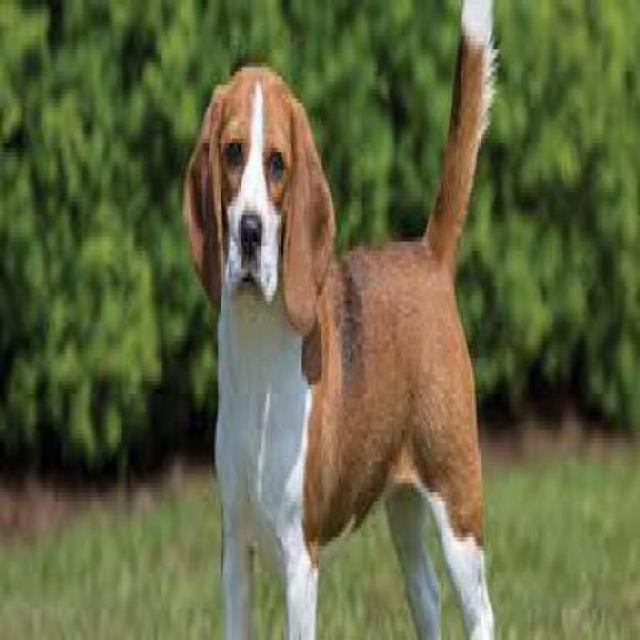Dog: (183, 0, 500, 635)
